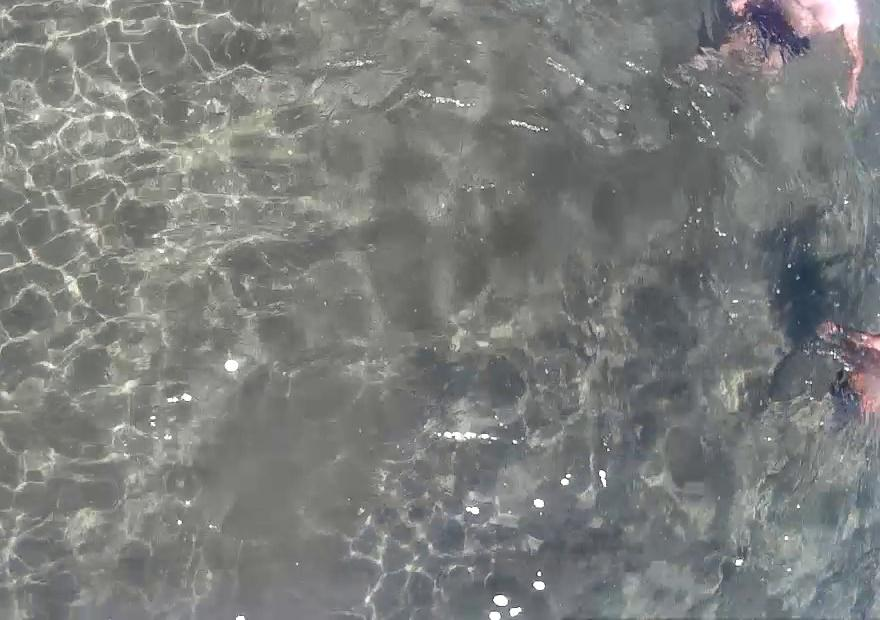human: (724, 0, 868, 125)
